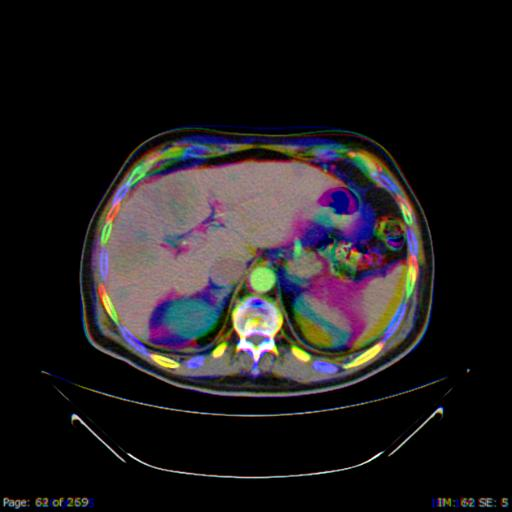Tumor: (155, 173, 203, 232), (108, 229, 161, 280)
